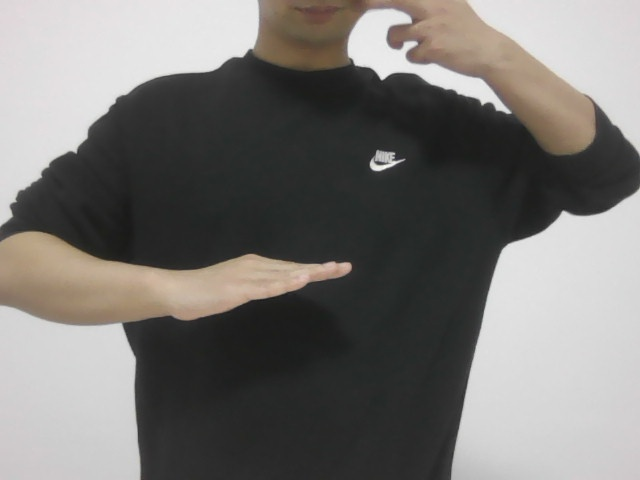safe: (153, 236, 365, 326)
